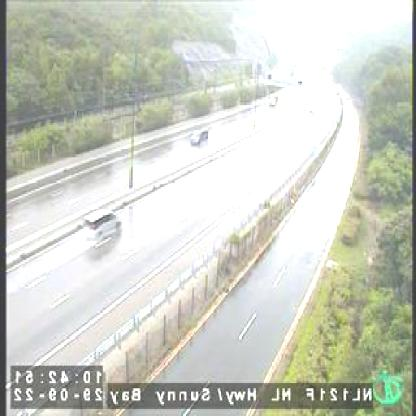Car: (82, 206, 126, 246), (188, 126, 212, 151), (269, 90, 282, 106)
